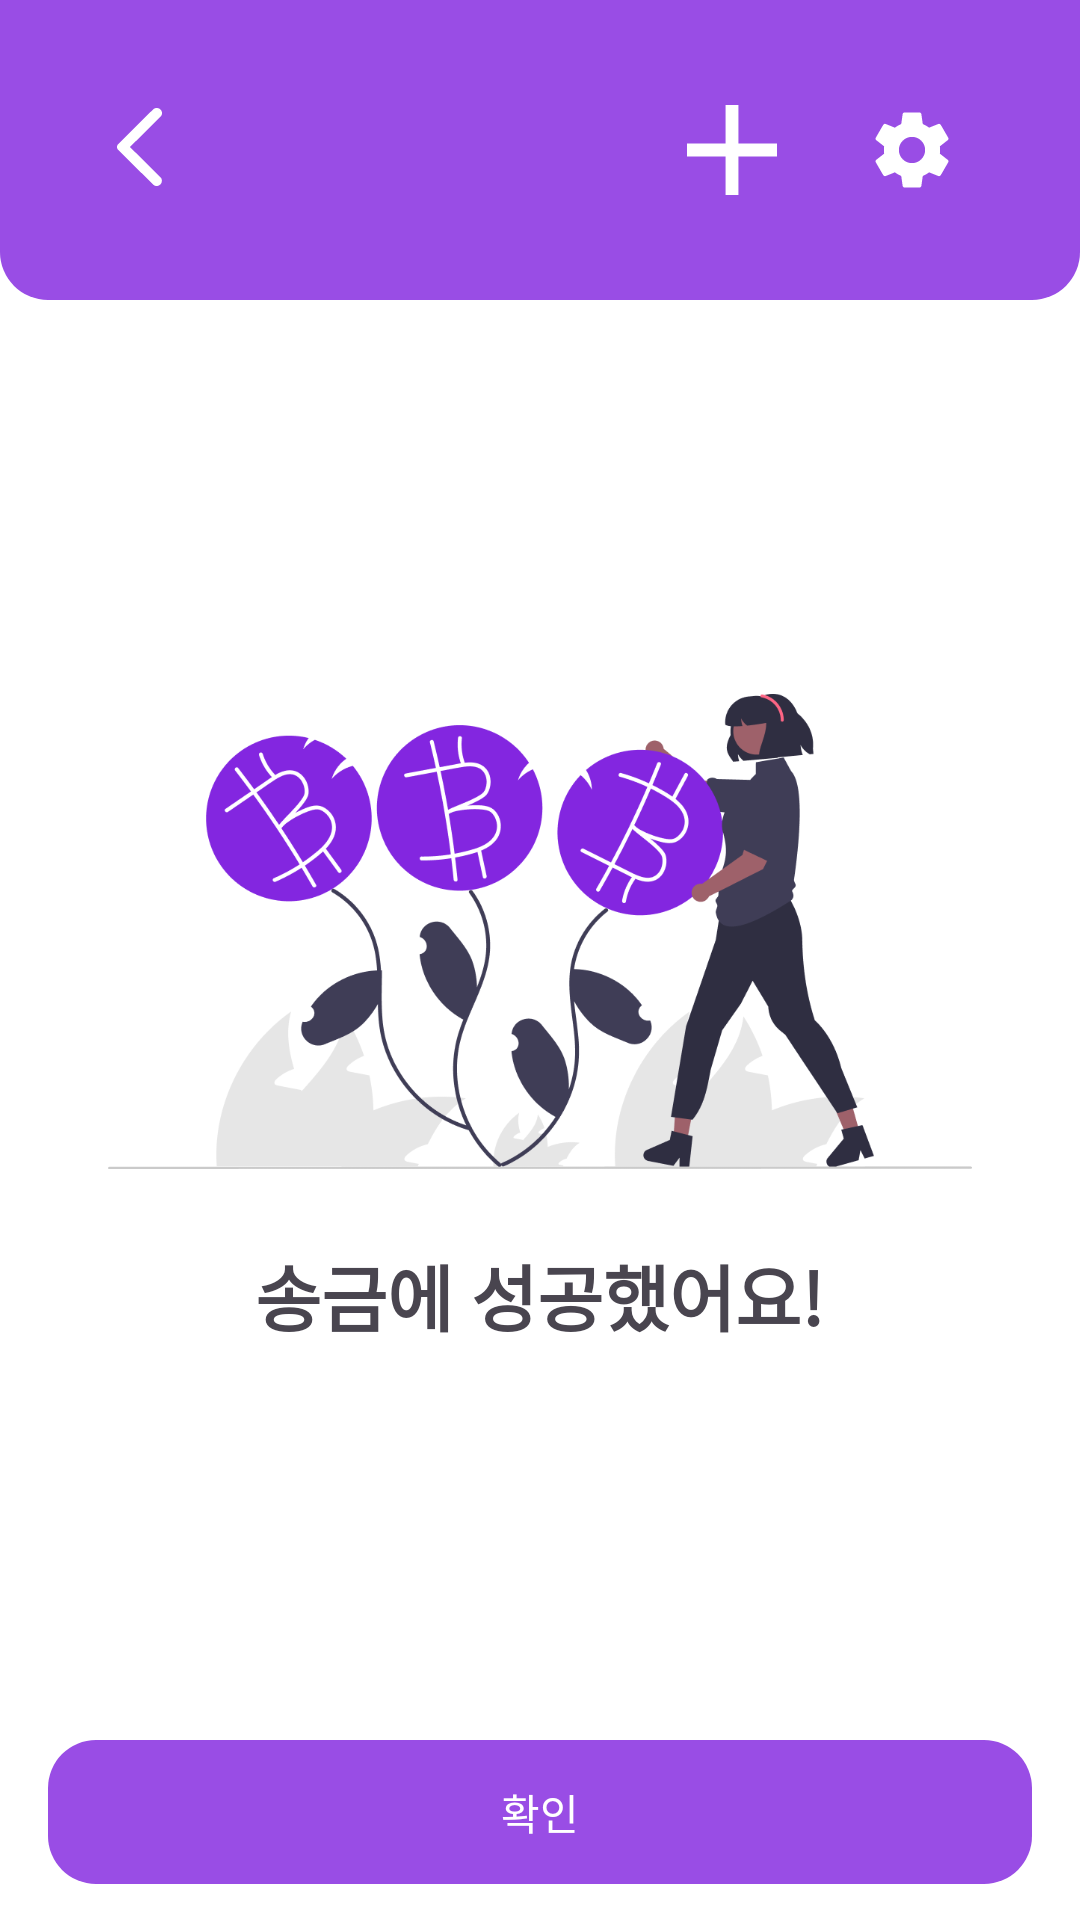

Icon click points for this 1080*1920 phone screenshot, format (x=x, y=y):
add: (x=732, y=150)
back: (x=139, y=147)
setting: (x=912, y=150)
